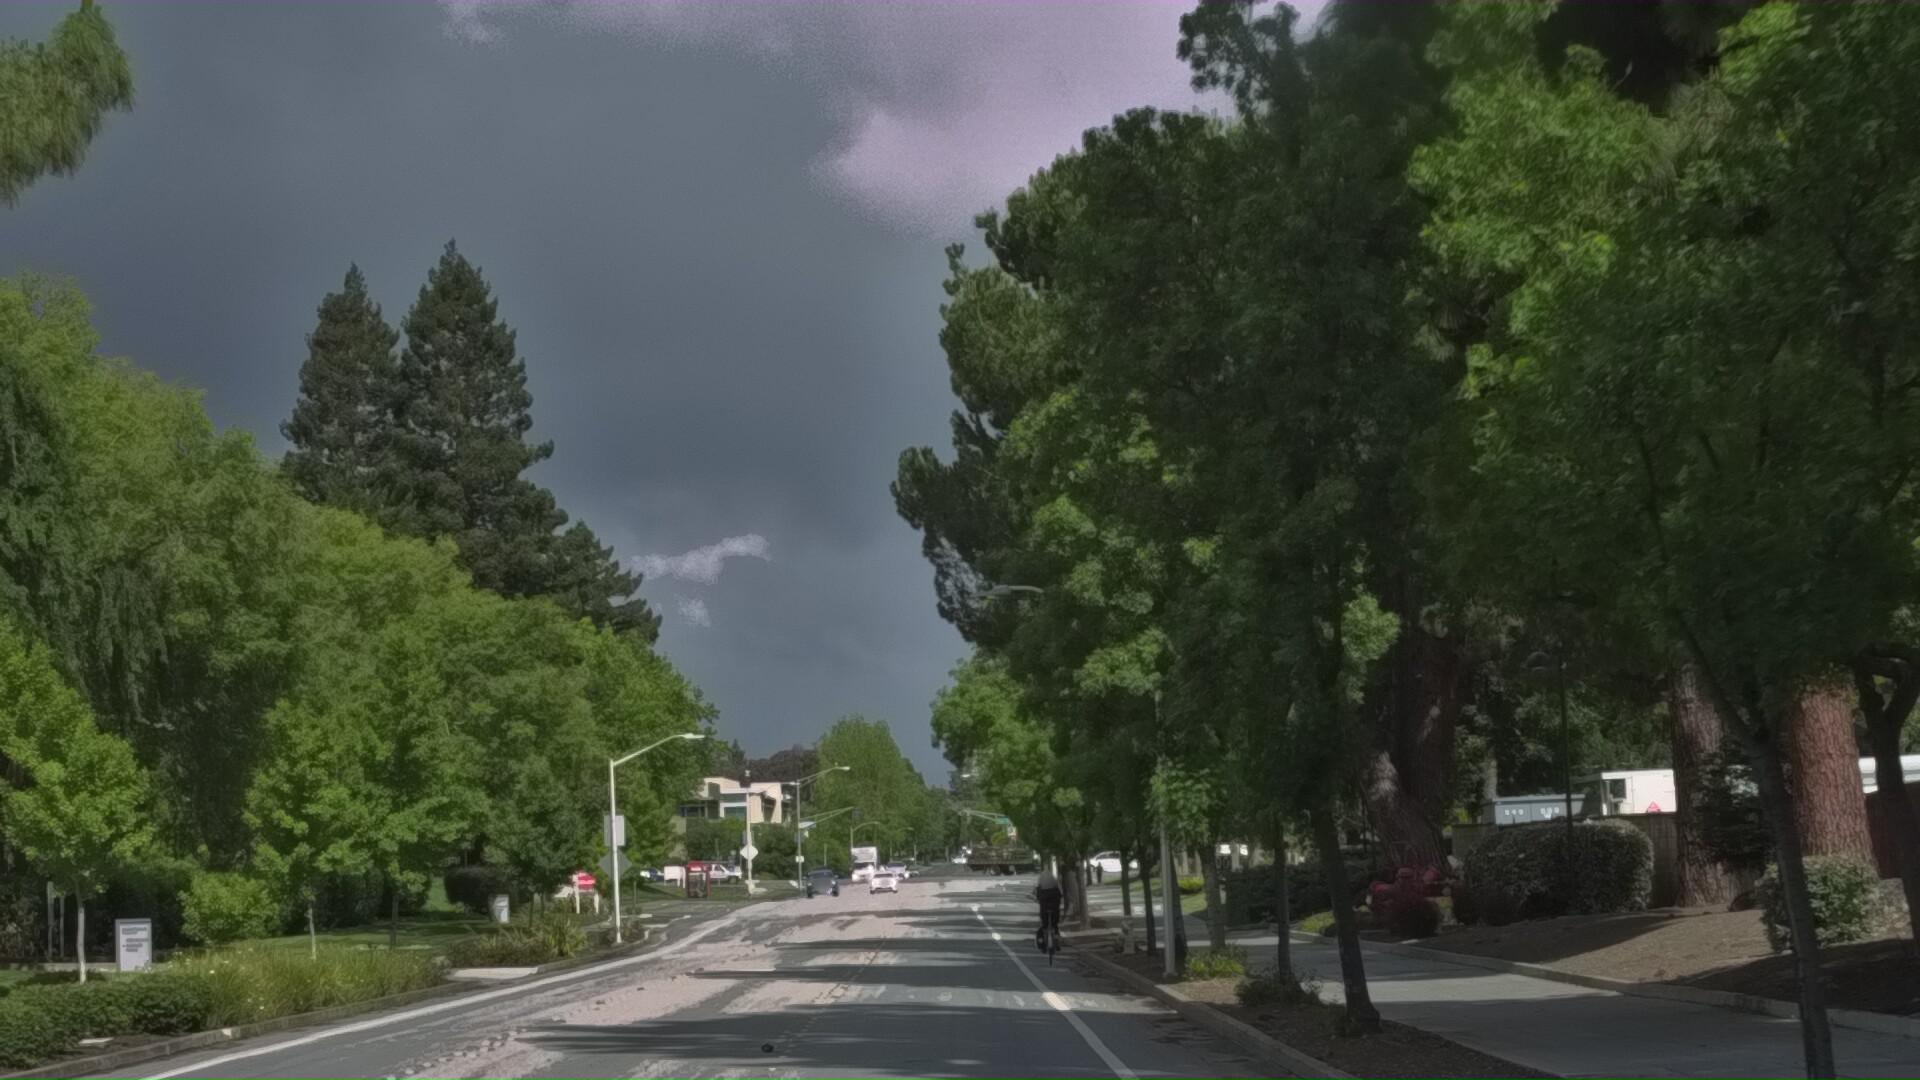bicycle: (1015, 957, 1073, 1060)
